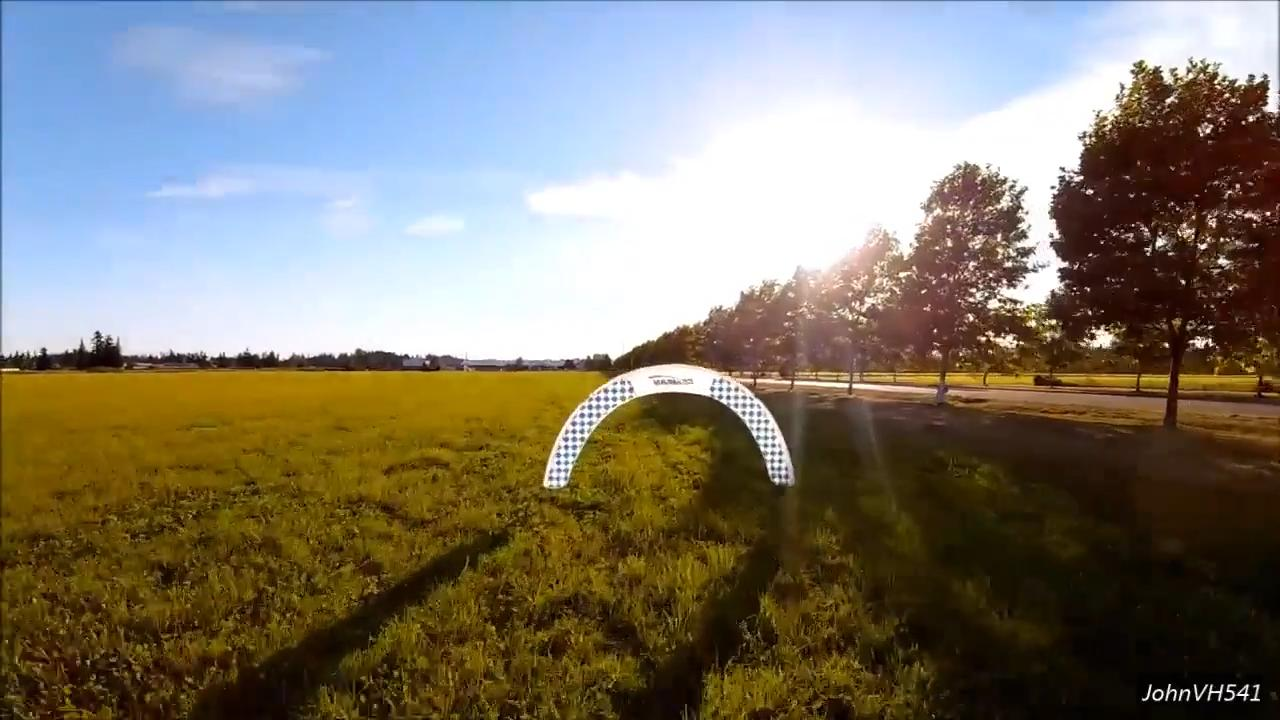gate: (543, 362, 801, 489)
